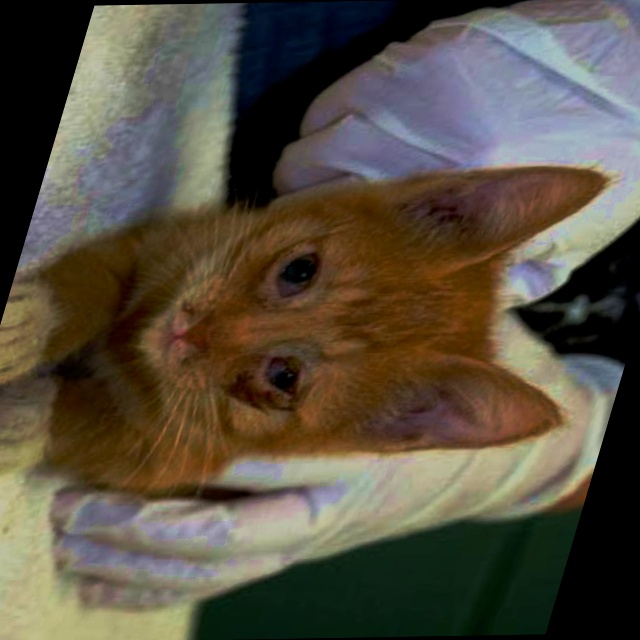eye_infection: (264, 249, 328, 306), (247, 355, 305, 413)
